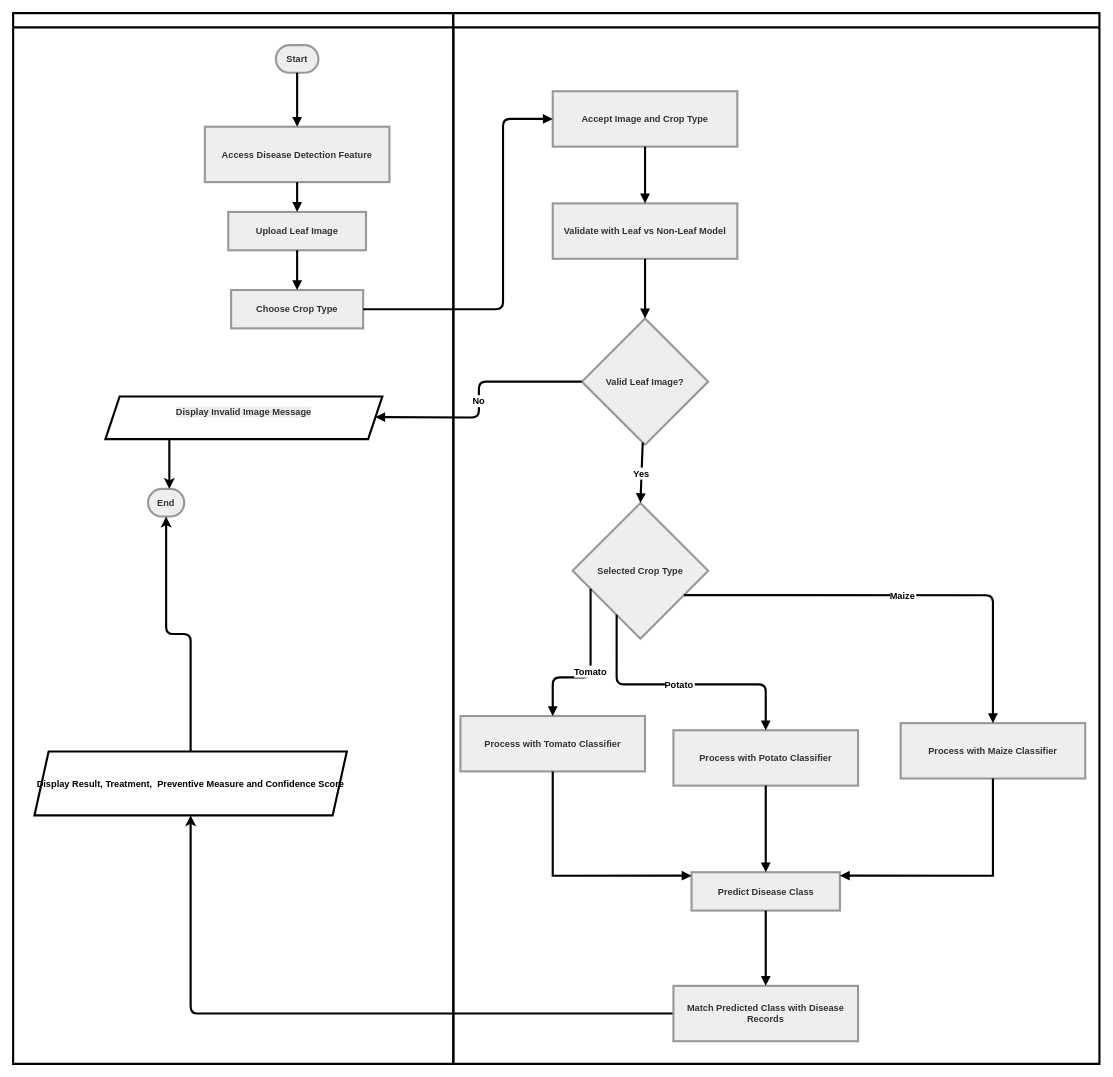
Some shapes in this 1113 by 1077 pixel diagram are drawn without their labels. The shapes that lost their labels are listed below. From the top down, each one's box as (x1, y1, x2, y2) in pixels, then its label:
(12, 12, 454, 1065): Farmer
(452, 12, 1100, 1065): System
